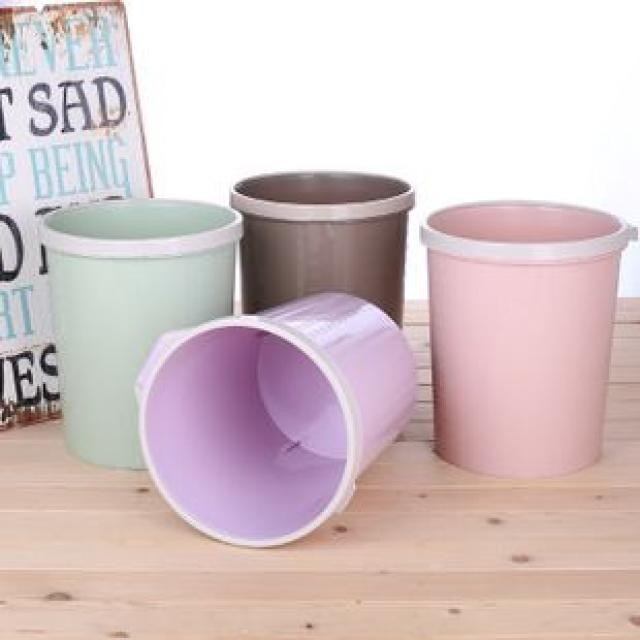Dustbin: (131, 288, 423, 550), (414, 194, 640, 482), (37, 195, 247, 473), (227, 165, 418, 337)
